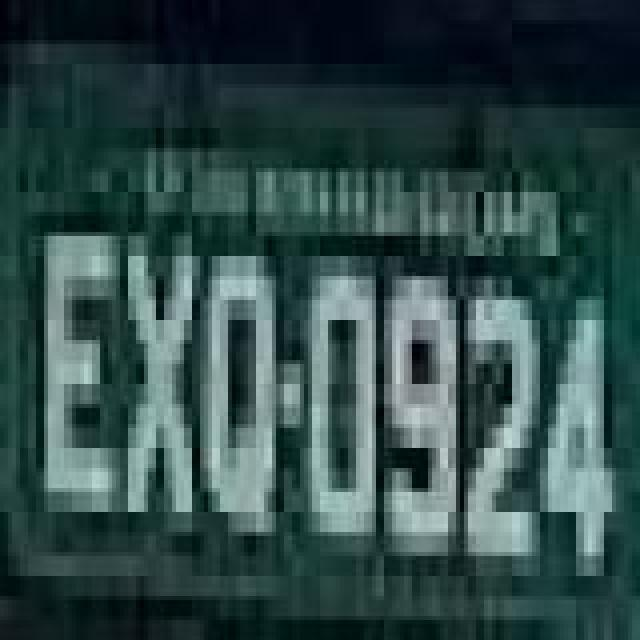2: (466, 274, 542, 574)
4: (542, 300, 618, 580)
9: (378, 266, 462, 566)
E: (40, 226, 120, 526)
O: (306, 258, 382, 558)
Q: (194, 242, 286, 542)
X: (118, 234, 202, 534)
